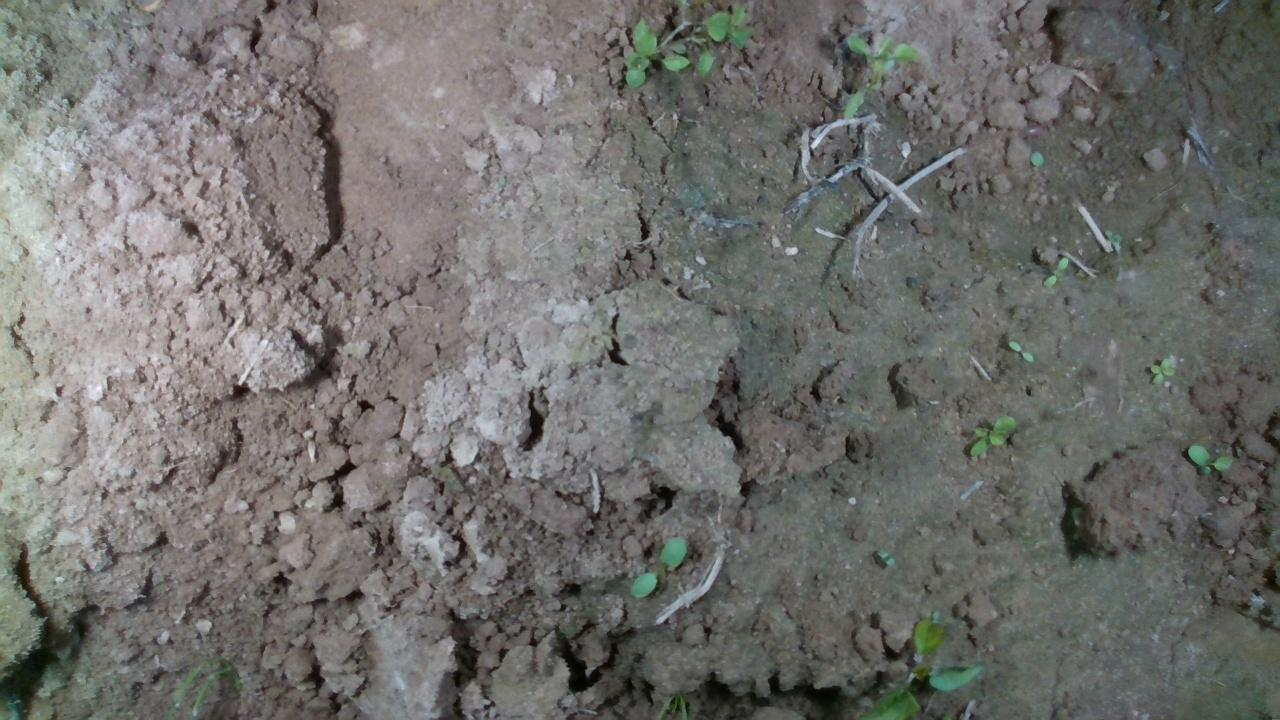weed: (627, 534, 685, 599), (965, 414, 1016, 458), (1186, 442, 1234, 471), (1146, 355, 1176, 385), (1041, 256, 1068, 289), (1005, 339, 1033, 362), (1102, 224, 1124, 252)
